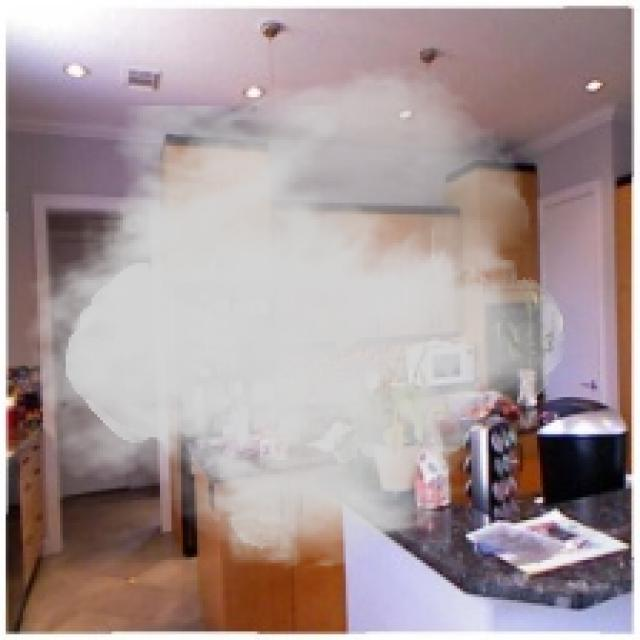smoke: (8, 60, 566, 574)
